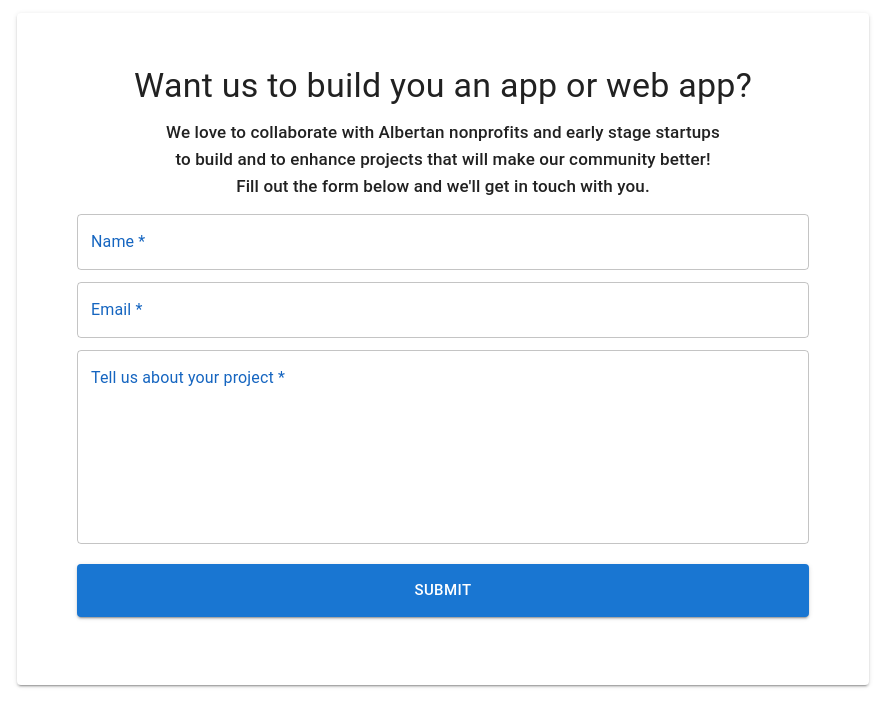
Test case: Submitting proposal works with the correct information
This screenshot has width=887, height=705.
Type "Test Jack" into the field labelled "Name *" at x=443, y=242, box [77,214,809,270]
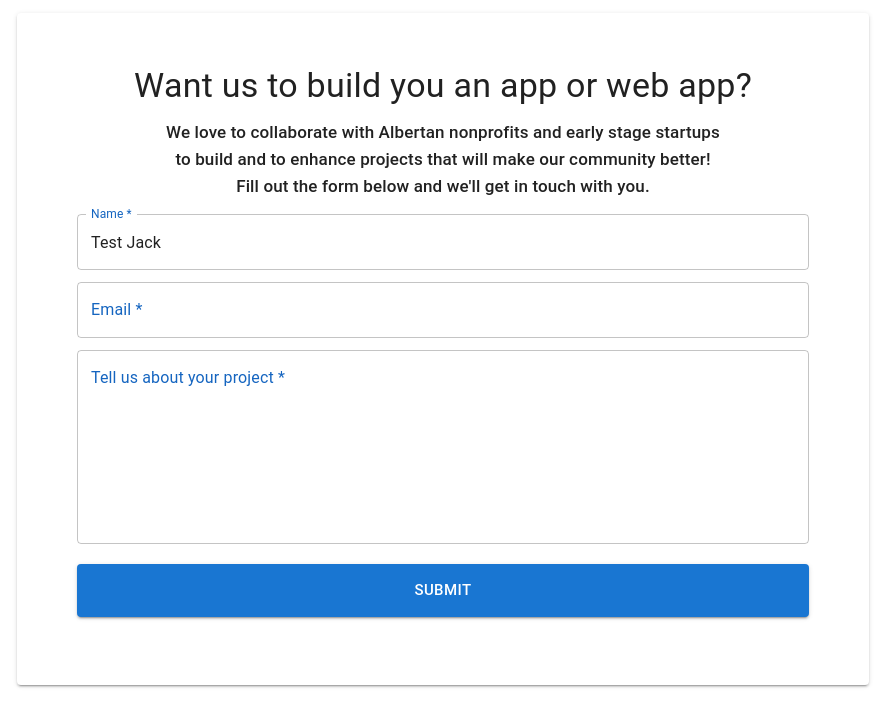
Type "goodmemes@email.com" into the field labelled "Email *" at x=443, y=310, box [77,282,809,338]
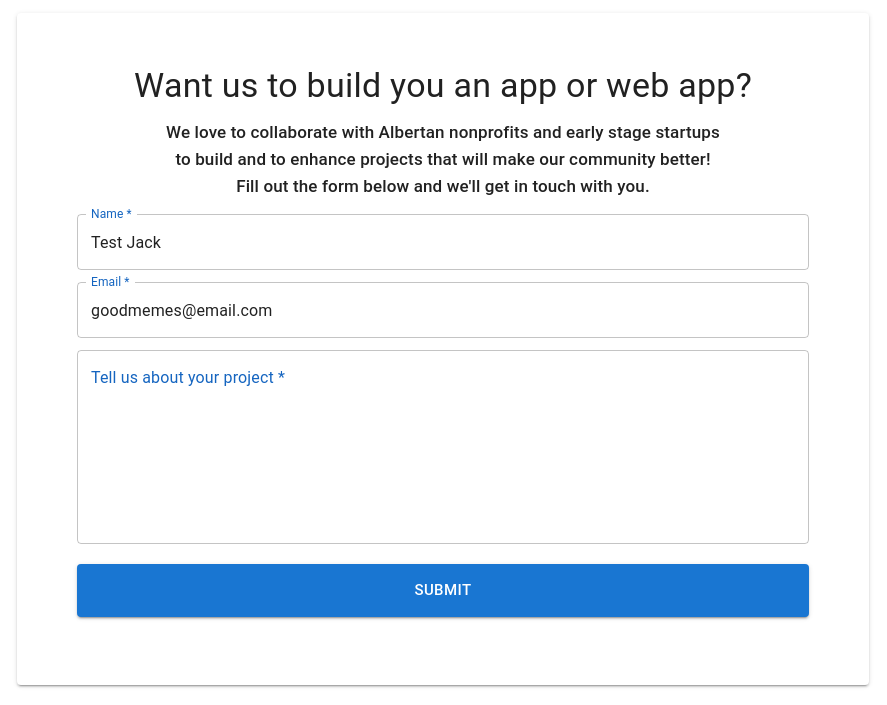
Type "Some information will be going in here to make sure that the test passes" into the text box labelled "Tell us about your project *" at x=443, y=447, box [91,367,795,528]
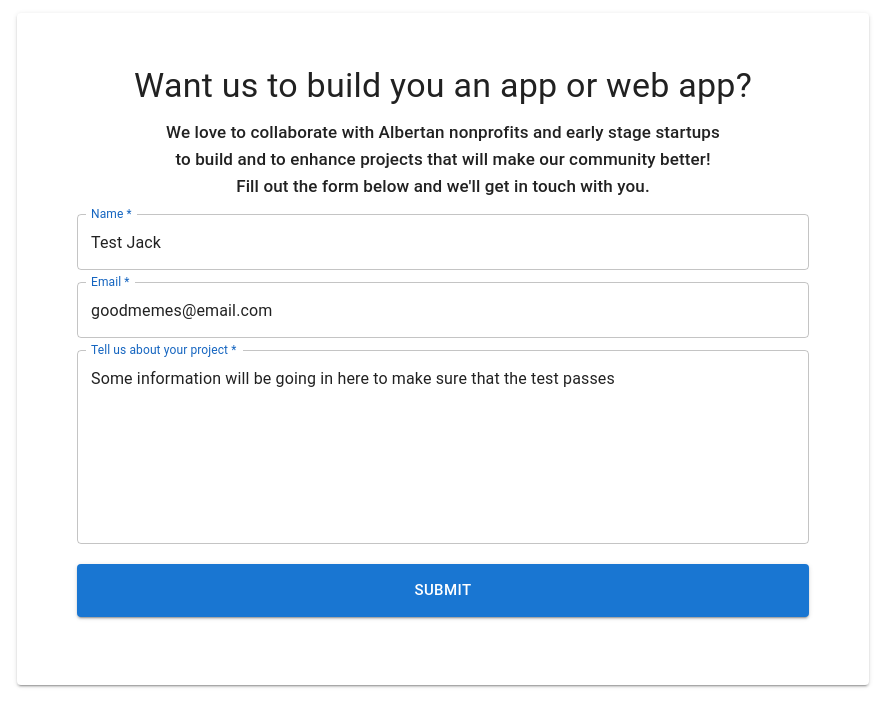
Click the button "Submit" at x=443, y=591, box [77,564,809,617]
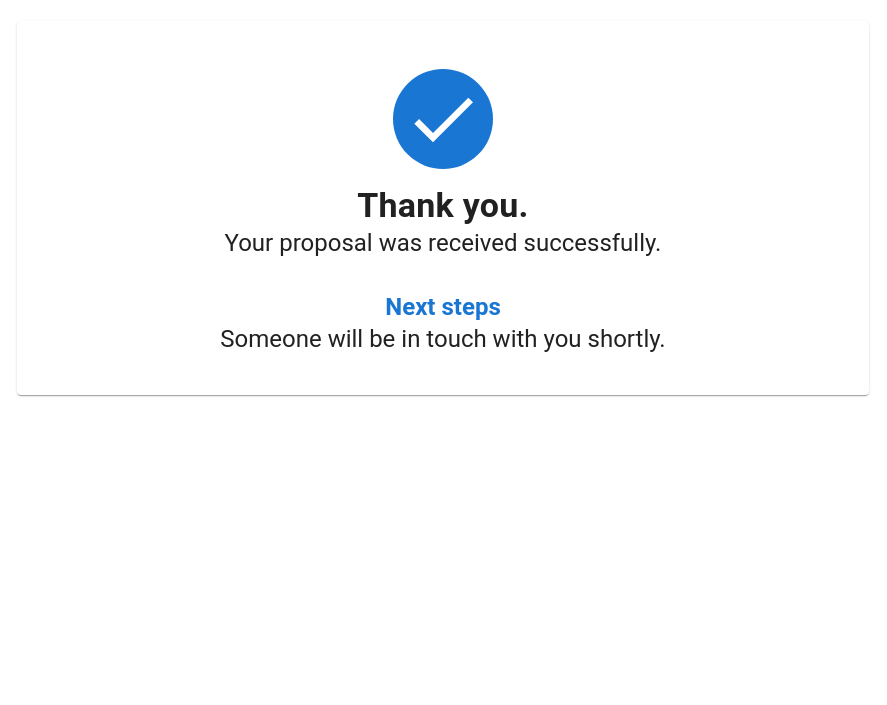
Expected: the text "Thank you." is shown, [357,185,529,225]
